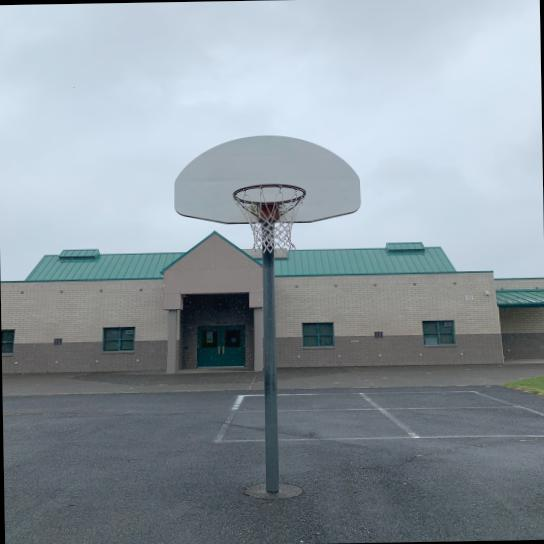basketball-hoop: (231, 181, 309, 253)
